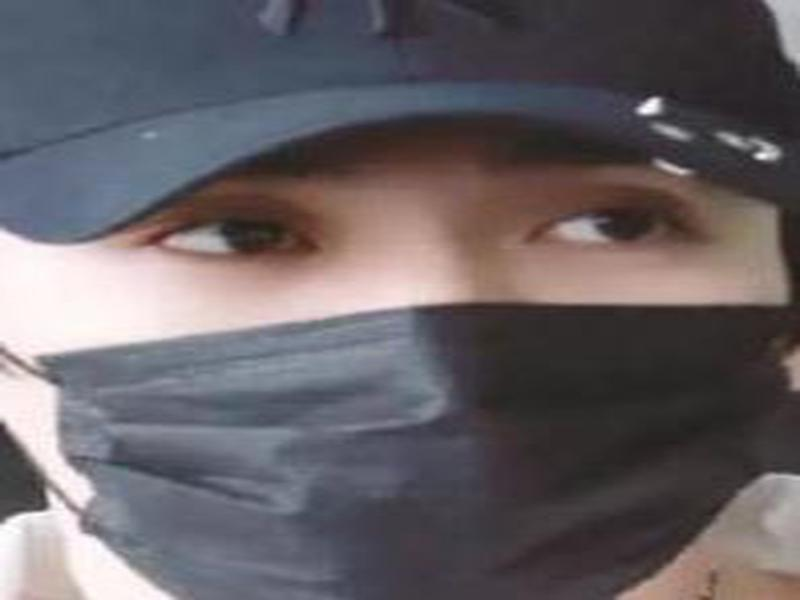with_mask: (1, 120, 793, 600)
